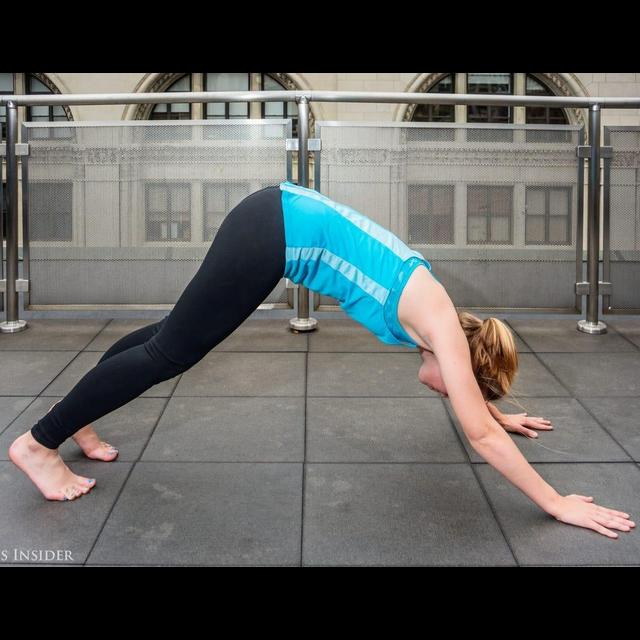Downward-Facing_Dog: (6, 172, 637, 542)
